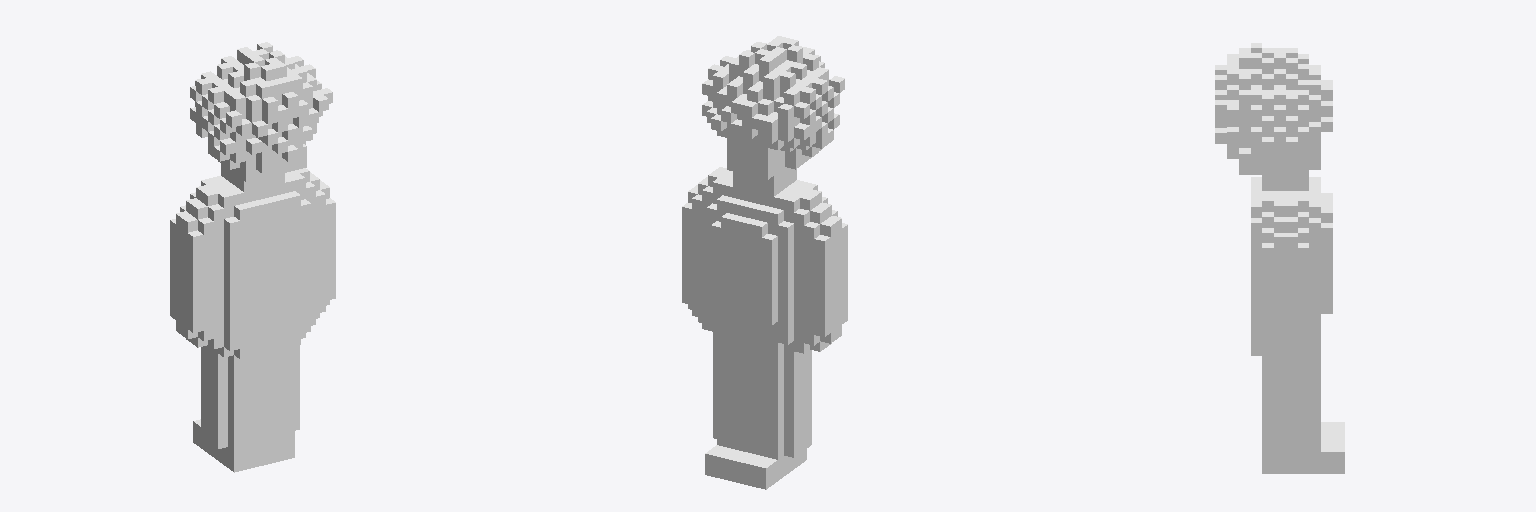
The model's file is felix_steh.obj.
3 renders of one model, left to right at view 1: azimuth 30°, elevation 25°; view 2: azimuth 150°, elevation 25°; view 3: azimuth 270°, elevation 25°, orthographic.
Visible parts, largest first — view 1: object 1; view 2: object 1; view 3: object 1.
Boxes of the visible parts, x1,y1,x2,y2 form: object 1: [170, 42, 335, 472]; object 1: [682, 36, 847, 489]; object 1: [1215, 43, 1344, 473].
Size of the model in its own units: 1.4 by 3.8 by 1.1.